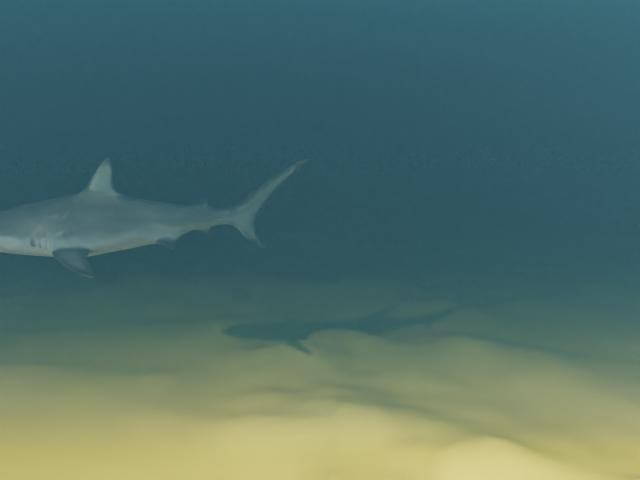Carribean Shark.001: (0, 156, 308, 277)
